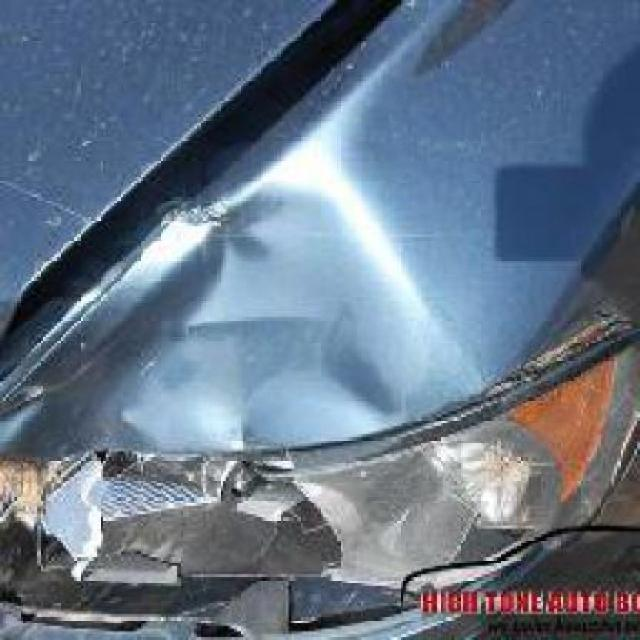damaged-head-light: (0, 328, 637, 638)
dent-or-scratch: (1, 146, 473, 432)
